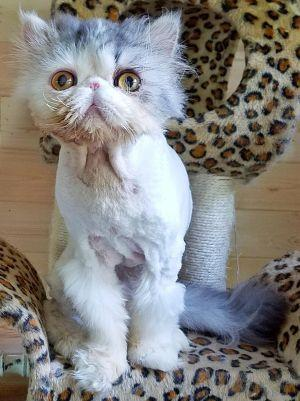persian: (9, 1, 184, 155)
